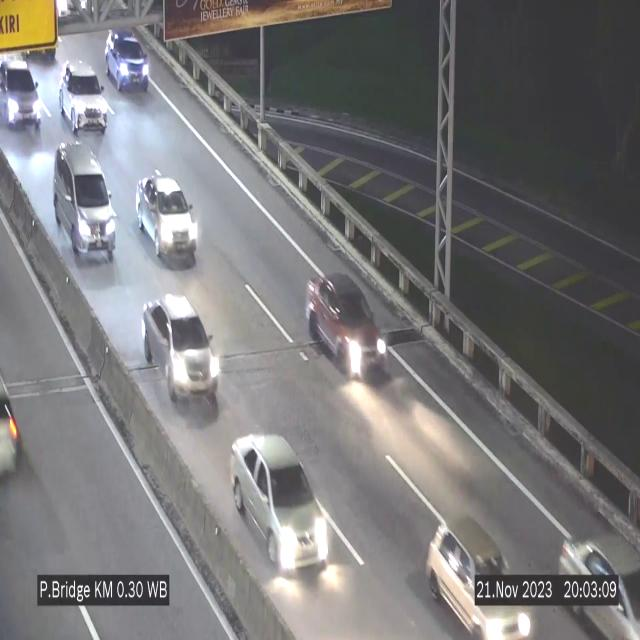Car: (417, 491, 544, 640), (230, 434, 328, 570), (550, 514, 640, 640), (142, 295, 220, 408), (305, 276, 389, 378), (51, 142, 118, 261), (136, 176, 198, 264), (59, 62, 113, 137), (0, 56, 44, 136), (105, 29, 150, 91)
